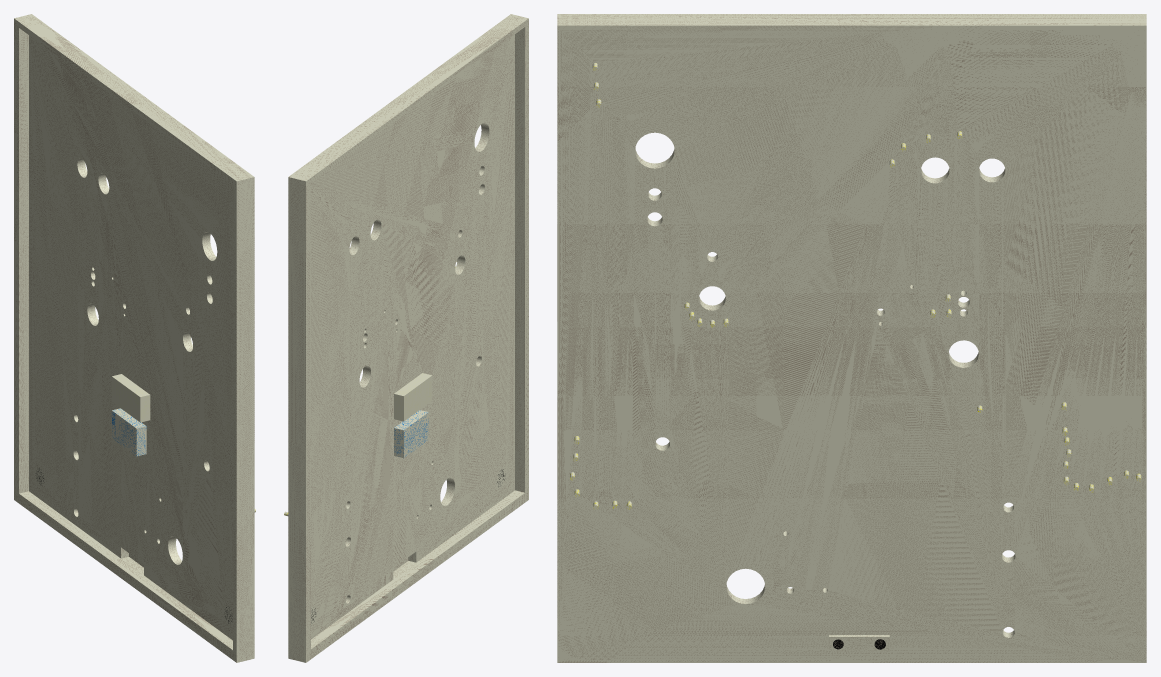
The model's file is proposalfinalidea.dae.
3 renders of one model, left to right at view 1: azimuth 30°, elevation 25°; view 2: azimuth 150°, elevation 25°; view 3: azimuth 270°, elevation 25°, orthographic. The views are drawn at different scales.
Parts seen in each view (by area): view 1: SketchUp (×3); view 2: SketchUp (×3); view 3: SketchUp.
Part boxes in pixels (box(x1,y1,x2,y2)): SketchUp (×3): box(14, 14, 254, 662); SketchUp (×3): box(288, 14, 528, 662); SketchUp: box(557, 14, 1146, 662).
Bounding box in the file's own units: 8 × 128 × 153.
